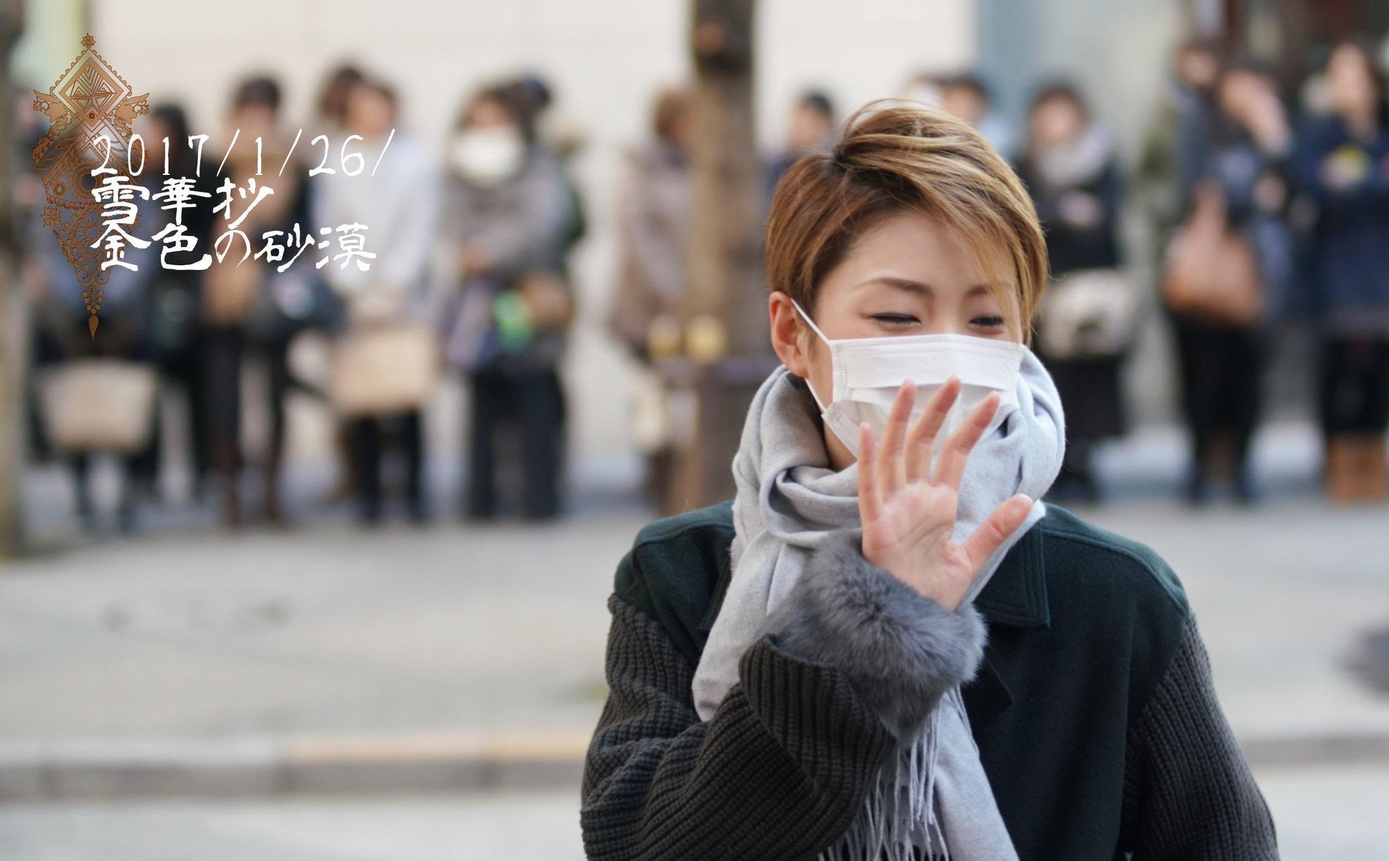OK: (813, 260, 1025, 473)
